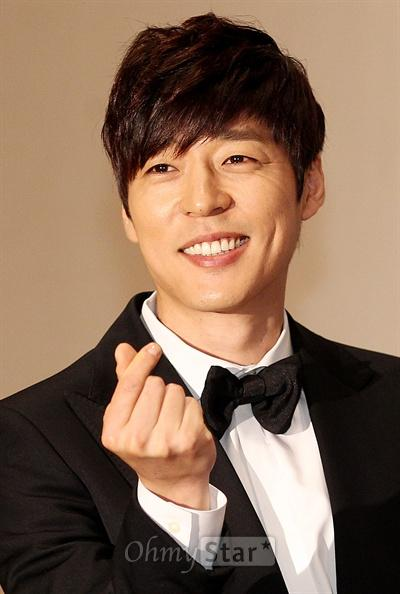heart gesture: (113, 339, 165, 375)
